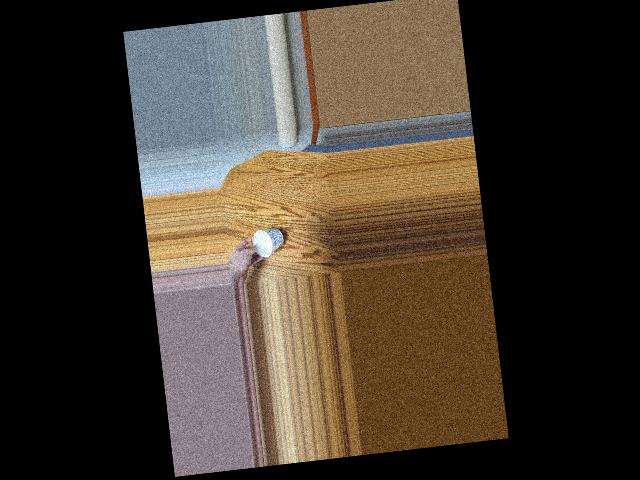cotage: (251, 227, 287, 253)
